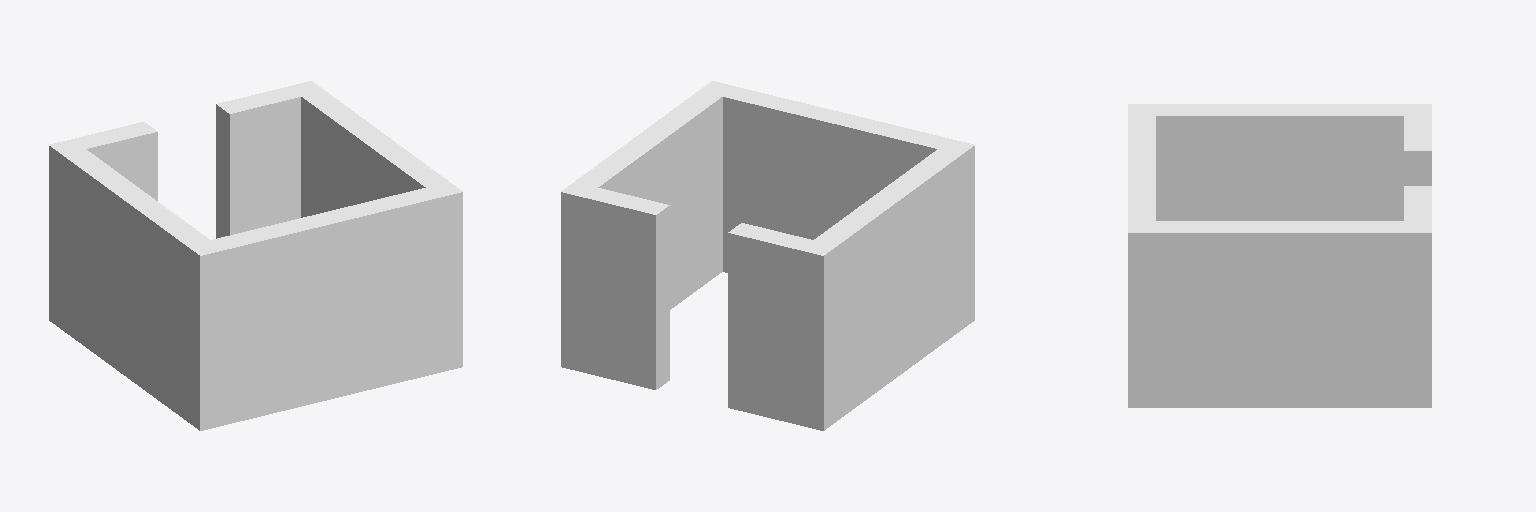
The model's file is CellWalls.obj.
3 views of the same model, side by side, from view 1: azimuth 30°, elevation 25°; view 2: azimuth 150°, elevation 25°; view 3: azimuth 270°, elevation 25° (orthographic).
Parts seen in each view (by area): view 1: CellWalls; view 2: CellWalls; view 3: CellWalls.
Boxes of the visible parts, <box> form: CellWalls: <box>49,81,462,430</box>; CellWalls: <box>561,81,974,430</box>; CellWalls: <box>1128,104,1431,407</box>.
Bounding box in the file's own units: 11 × 7 × 11.